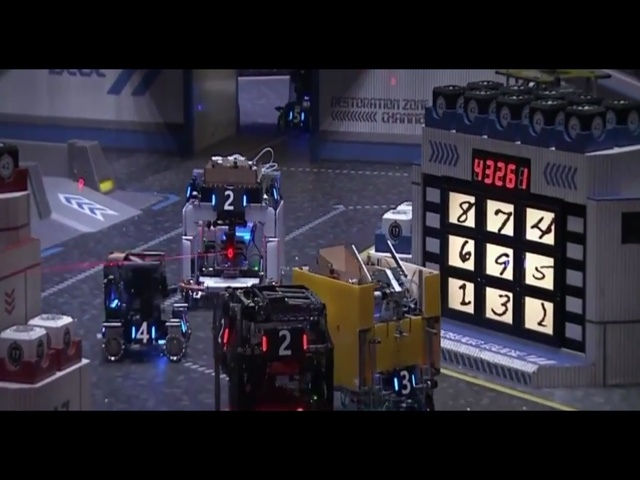plate: (209, 179, 253, 219), (259, 328, 309, 359), (125, 316, 163, 347), (389, 367, 418, 395), (283, 105, 308, 129), (213, 314, 230, 348), (176, 314, 192, 340)
